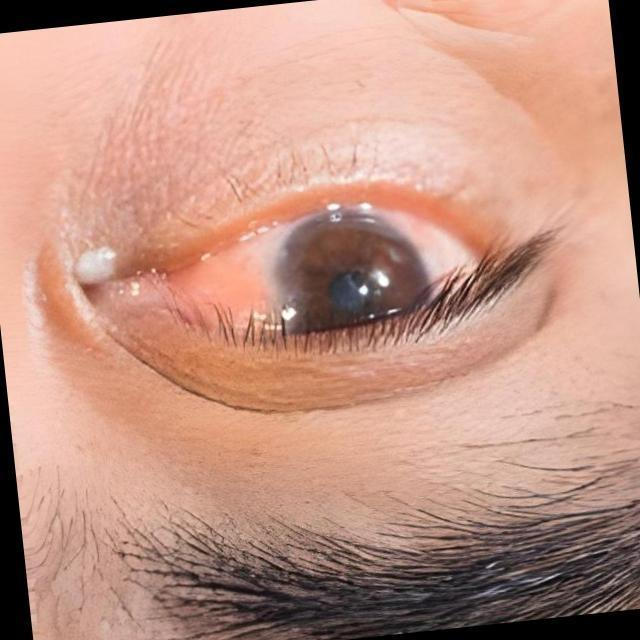Pterygium: (152, 224, 326, 348)
